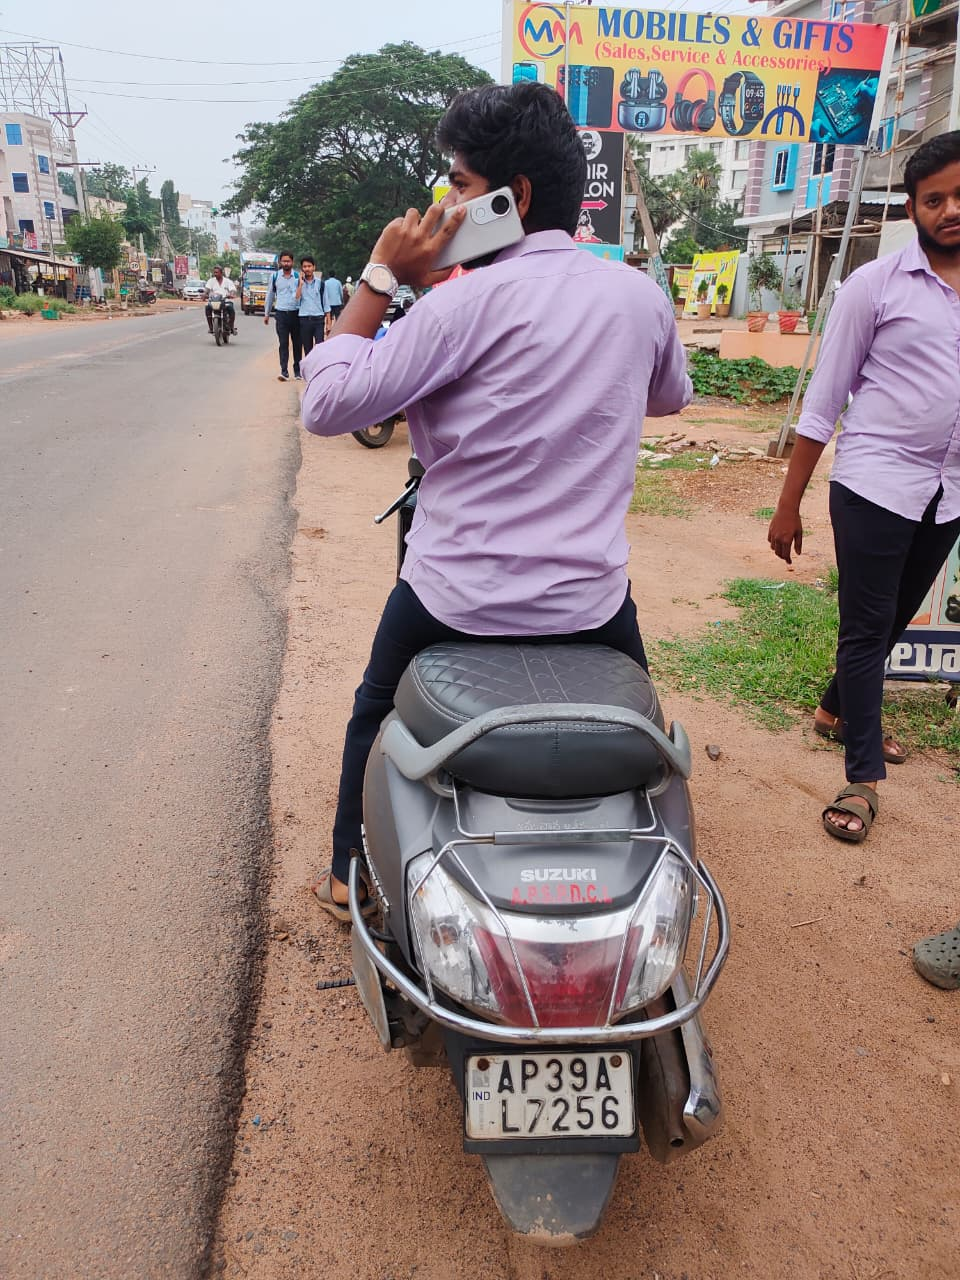mobile_usage: (338, 178, 526, 314)
no_helmet: (417, 74, 601, 282)
number_plate: (432, 1035, 662, 1161)
